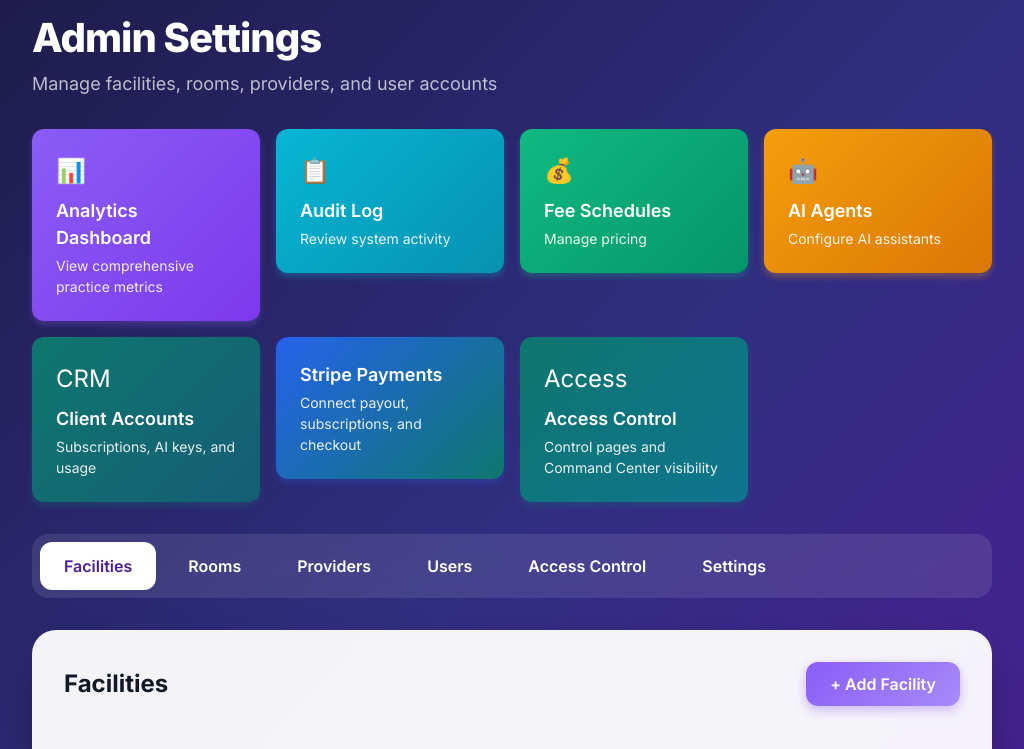
Scenario: AdminPage › should show temporary password controls for new and existing users
Click the button "Users" at (450, 566), box [403,542,496,590]
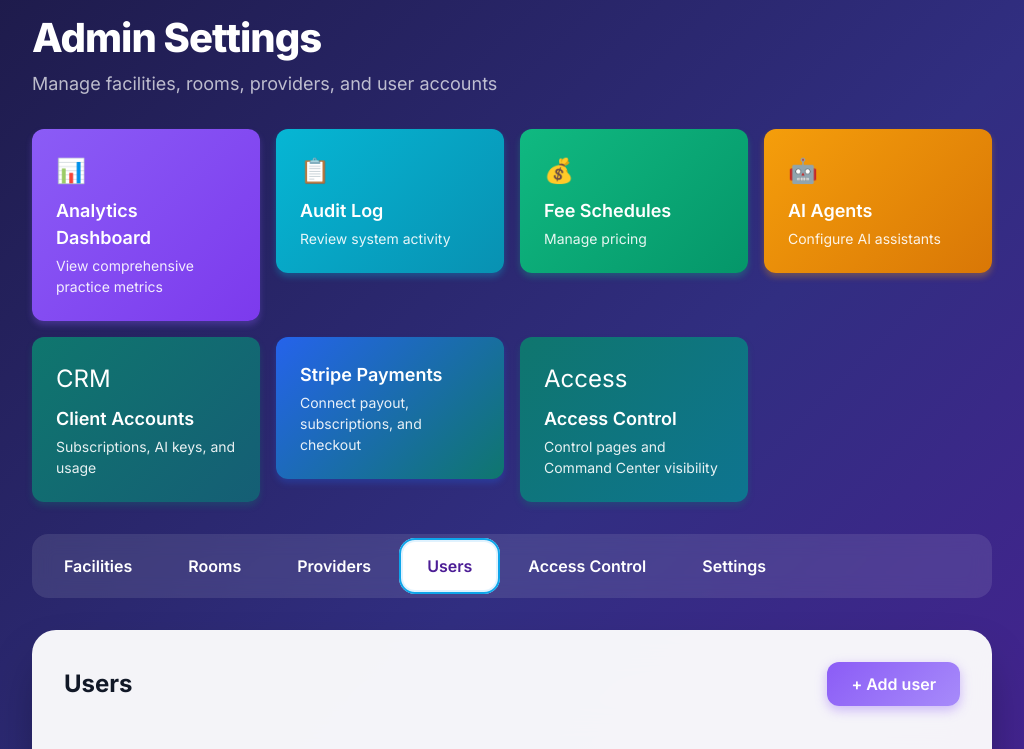
Click the button "+ Add user" at (894, 684), box [827,662,960,706]
(page scrolled)
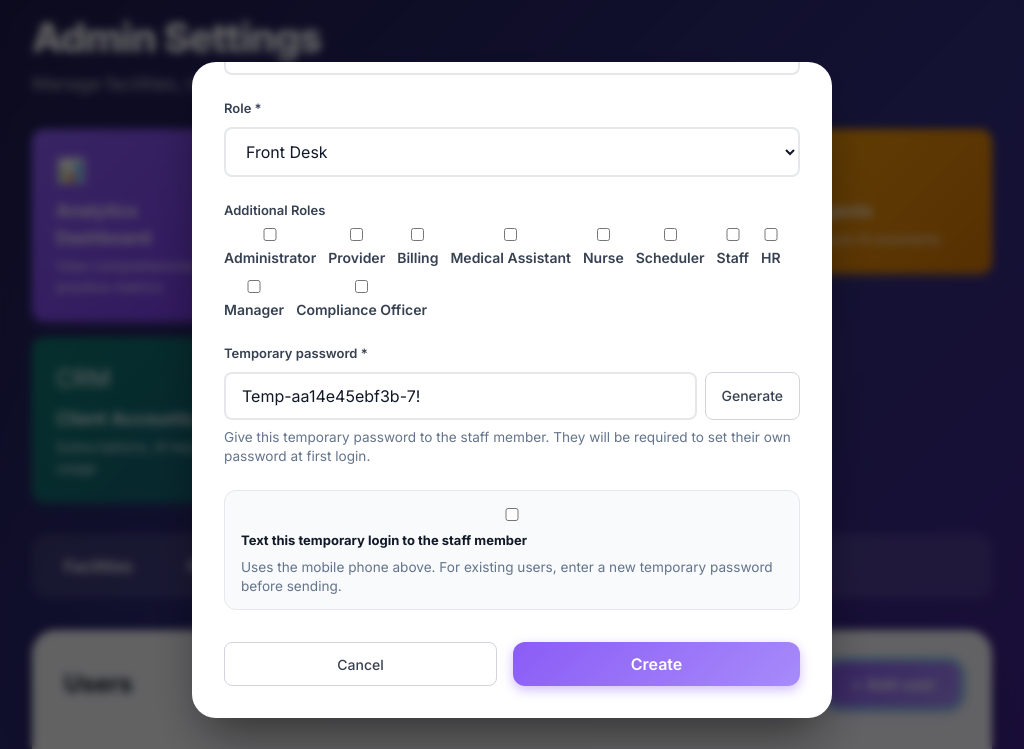
Expected: the checkbox labelled "Text this temporary login to the staff member" is shown, [241,508,783,521]
Expected: the button "Generate" is shown, [704,372,800,420]
Click the button "Cancel" at (360, 664), box [224,642,497,686]
(page scrolled)
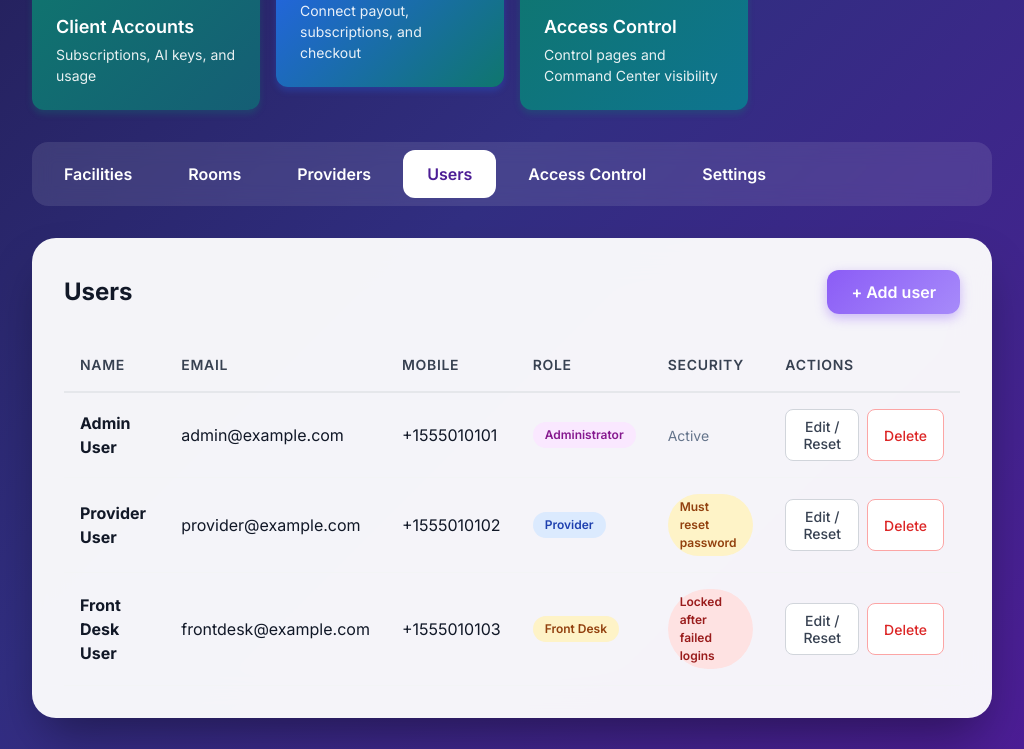
// Open edit modal
Click the button "Edit / Reset" in the row of "Admin User" at (822, 435), box [785,409,859,461]
(page scrolled)
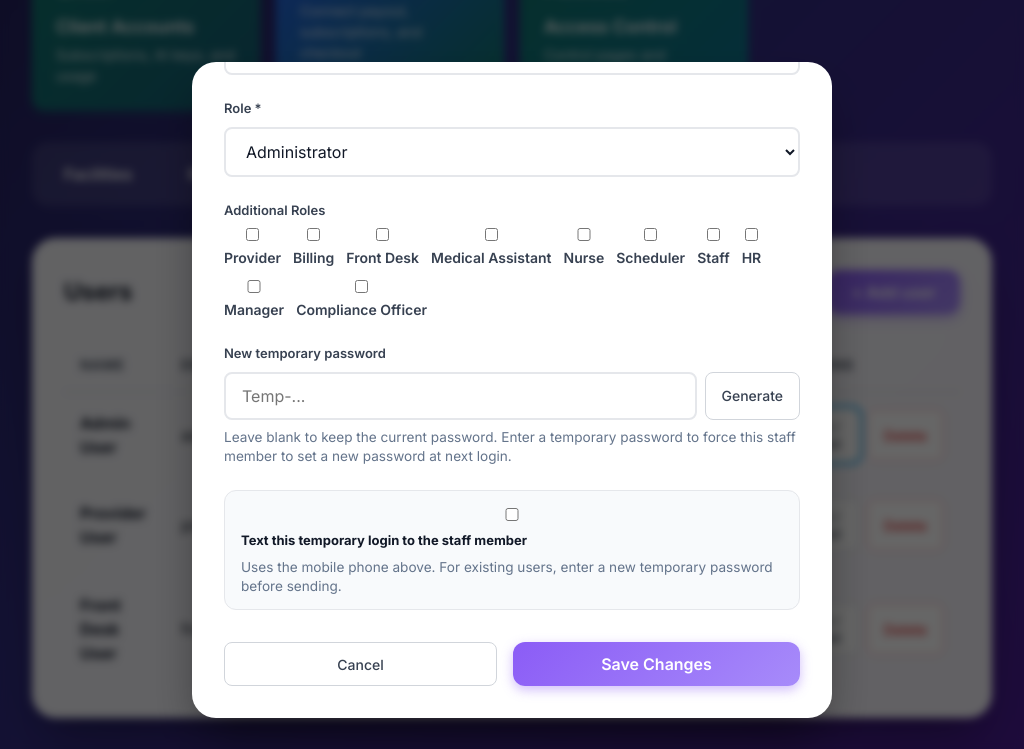
Expected: the field labelled "New temporary password" is shown, [224,372,696,420]
Expected: the text "Leave blank to keep the current password" is shown, [224,429,796,464]
